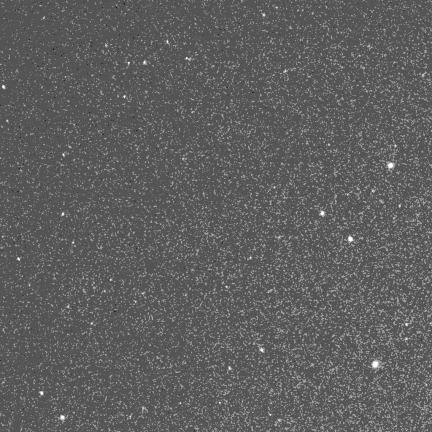blob: (388, 162, 394, 169), (373, 361, 378, 367), (348, 236, 353, 242), (60, 415, 65, 420), (260, 348, 265, 353), (262, 13, 266, 18), (17, 257, 21, 262), (405, 323, 409, 327), (40, 391, 43, 395), (124, 95, 127, 99), (62, 212, 65, 216), (399, 204, 402, 208), (228, 366, 231, 370), (321, 211, 324, 215), (3, 85, 5, 89), (128, 62, 130, 65)
